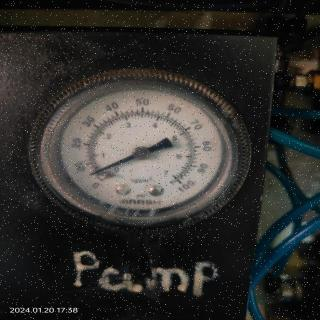gauge: (27, 55, 260, 242), (91, 164, 117, 188), (167, 171, 188, 191), (131, 144, 151, 161), (86, 169, 98, 179)
